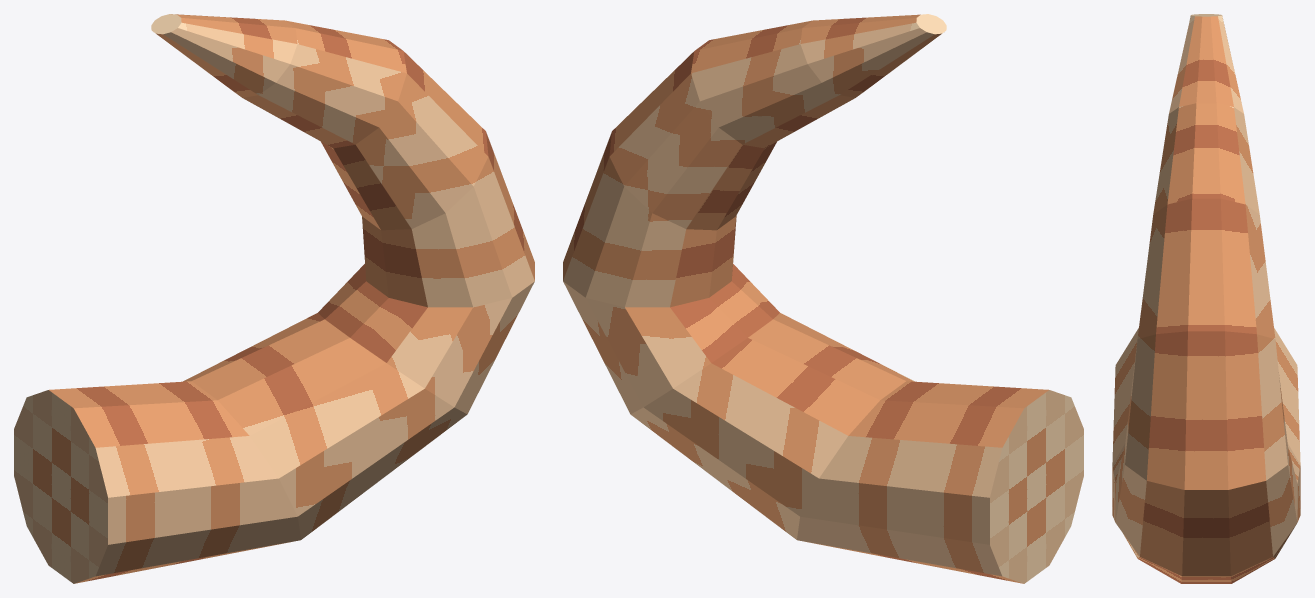
Rendered from horn.fbx.
3 renders of one model, left to right at view 1: azimuth 30°, elevation 25°; view 2: azimuth 150°, elevation 25°; view 3: azimuth 270°, elevation 25°, orthographic. The views are drawn at different scales.
Visible parts, largest first — view 1: horn; view 2: horn; view 3: horn.
Boxes of the visible parts, x1,y1,x2,y2 form: horn: (14,14,534,583); horn: (563,14,1083,583); horn: (1112,14,1300,583).
Bounding box in the file's own units: 103 × 115 × 37.5.
1 material, 1 textured.
